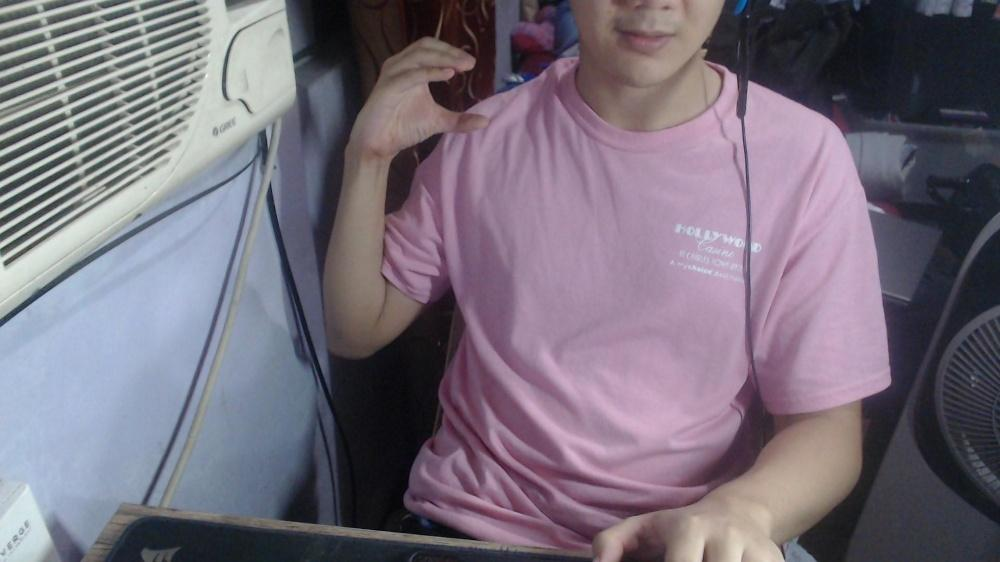c: (348, 34, 491, 157)
